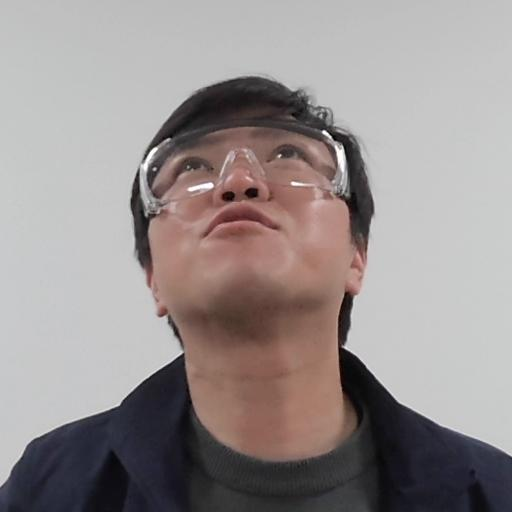glasses: (125, 71, 390, 349)
